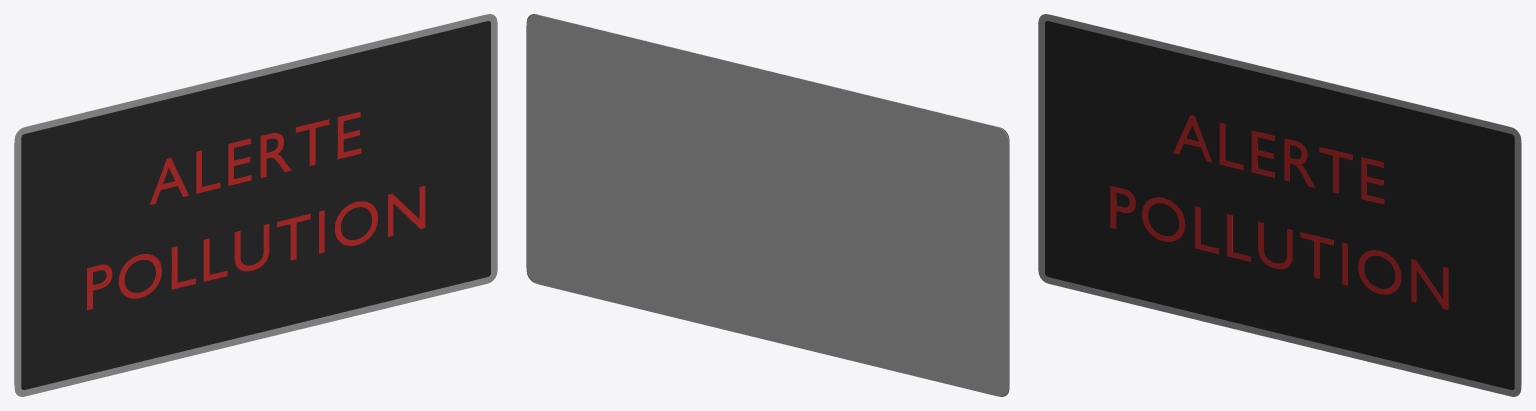
File: ALERTE_POLLUTION.glb
3 views of the same model, side by side, from view 1: azimuth 30°, elevation 25°; view 2: azimuth 150°, elevation 25°; view 3: azimuth 330°, elevation 25° (orthographic).
Visible parts, largest first — view 1: ALERTE_POLLUTION_fond01, ALERTE_POLLUTION_cadre00, ALERTE_POLLUTION_txt03, ALERTE_POLLUTION_txt02, ALERTE_POLLUTION_dos; view 2: ALERTE_POLLUTION_dos; view 3: ALERTE_POLLUTION_fond01, ALERTE_POLLUTION_cadre00, ALERTE_POLLUTION_txt03, ALERTE_POLLUTION_txt02, ALERTE_POLLUTION_dos.
Part boxes in pixels (box(x1,y1,x2,y2)): ALERTE_POLLUTION_fond01: box(21, 21, 490, 389); ALERTE_POLLUTION_cadre00: box(14, 14, 497, 396); ALERTE_POLLUTION_txt03: box(87, 186, 425, 310); ALERTE_POLLUTION_txt02: box(150, 111, 361, 204); ALERTE_POLLUTION_dos: box(14, 14, 484, 384); ALERTE_POLLUTION_dos: box(526, 14, 1009, 396); ALERTE_POLLUTION_fond01: box(1045, 21, 1514, 389); ALERTE_POLLUTION_cadre00: box(1038, 14, 1521, 396); ALERTE_POLLUTION_txt03: box(1110, 185, 1448, 310); ALERTE_POLLUTION_txt02: box(1173, 115, 1384, 204); ALERTE_POLLUTION_dos: box(1051, 14, 1521, 384).
Bounding box in the file's own units: 1.5 × 0.8 × 0.0029.
